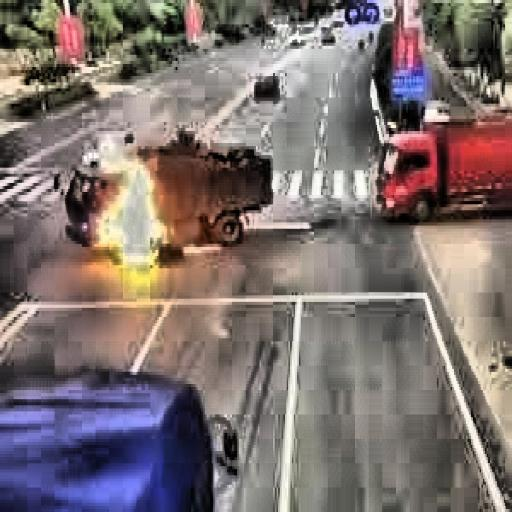fire: (77, 140, 184, 287)
